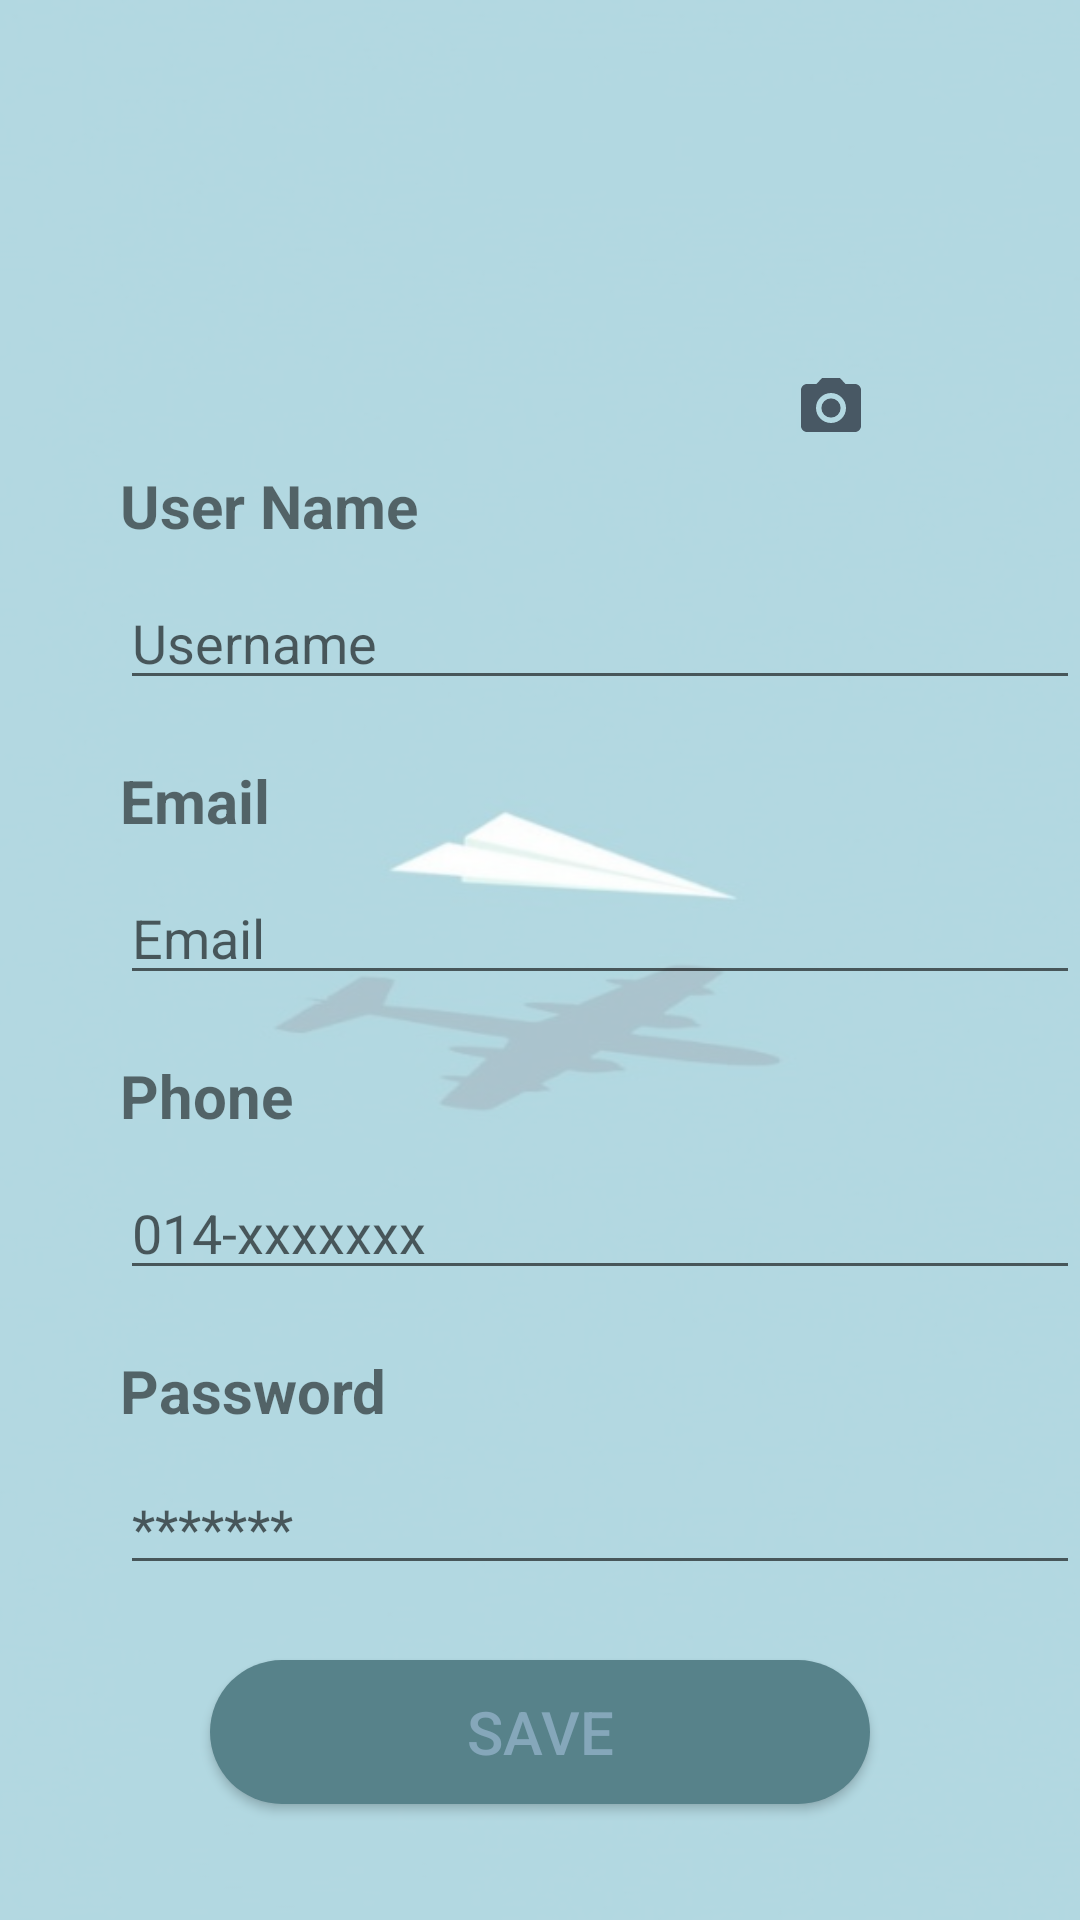

Icons on this 1080px x 1920px Android screen, each with the point to tap as point (x, y):
photo camera: point (831, 405)
